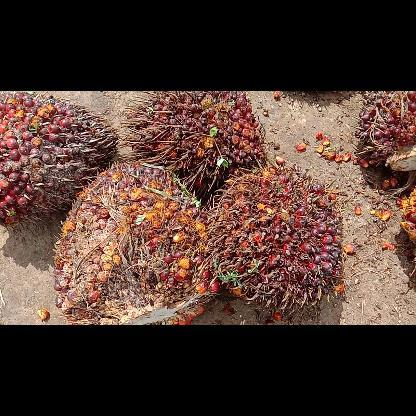TBS masak: (53, 162, 220, 324), (206, 164, 342, 314), (0, 90, 117, 226), (119, 90, 265, 194)
